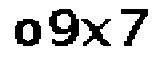7: (118, 8, 150, 46)
9: (47, 5, 81, 47)
o: (13, 15, 43, 48)
x: (79, 18, 113, 49)
